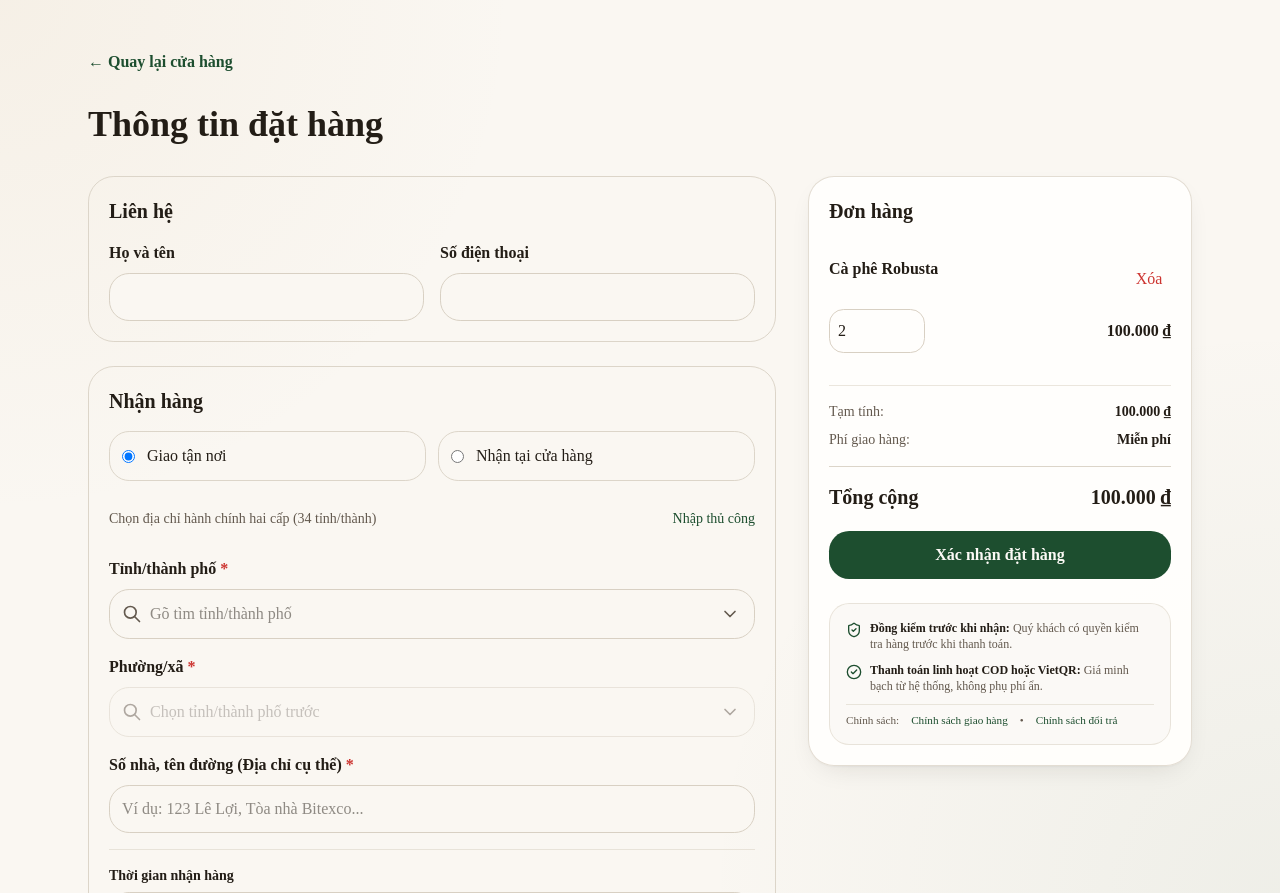
it: CheckoutForm - Structured Address & Experience › ô số lượng chỉ nhận số nguyên, tối đa phần nguyên tồn kho
The image size is (1280, 893).
Replace the text in the number field named "Số lượng Cà phê Robusta" with "1.5" at (877, 331), box [829, 309, 925, 353]
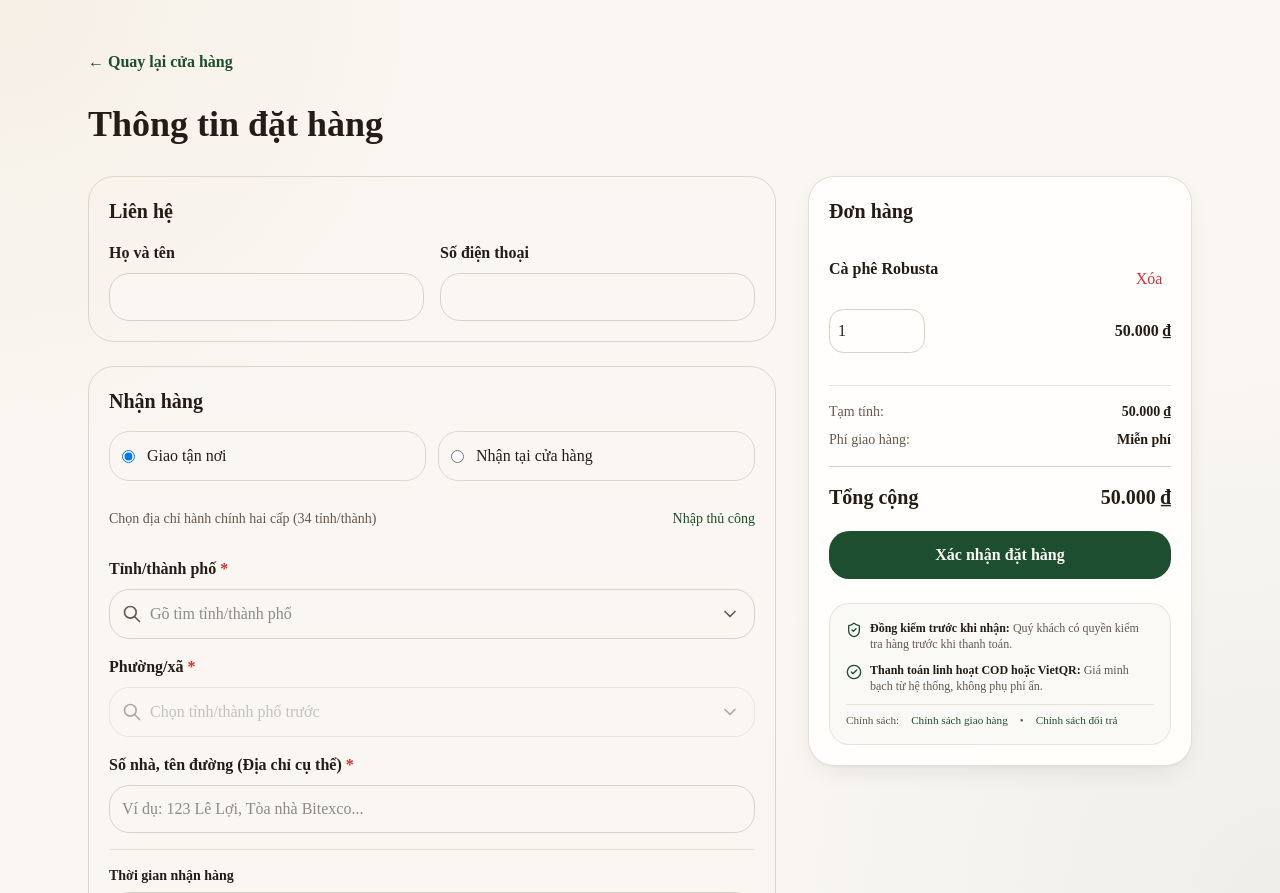
Now the number field named "Số lượng Cà phê Robusta" holds "1", box [829, 309, 925, 353]
